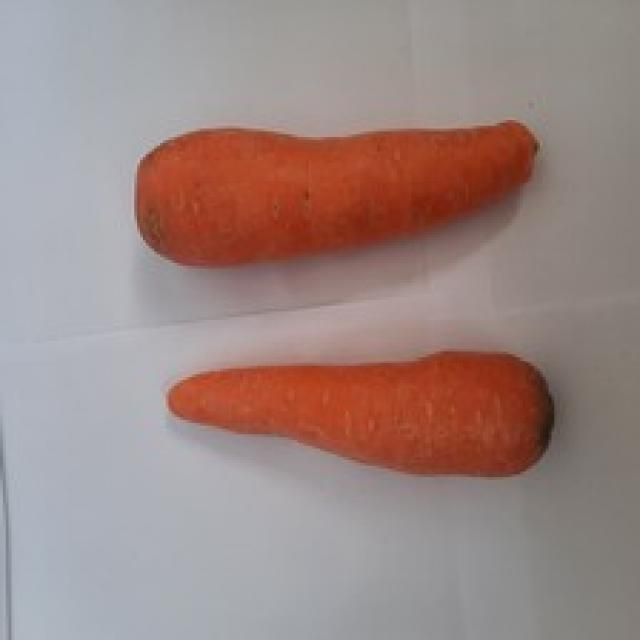carrot: (134, 127, 540, 263), (167, 351, 557, 477)
